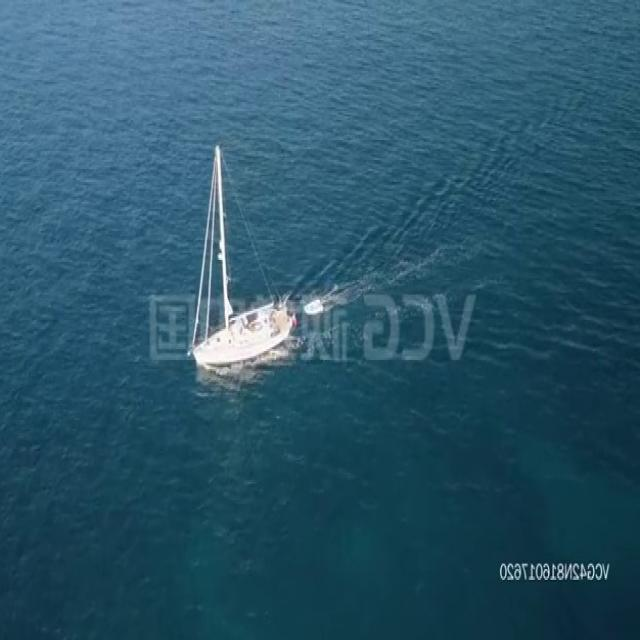houseboat: (305, 293, 325, 319)
sailboat: (188, 138, 300, 374)
